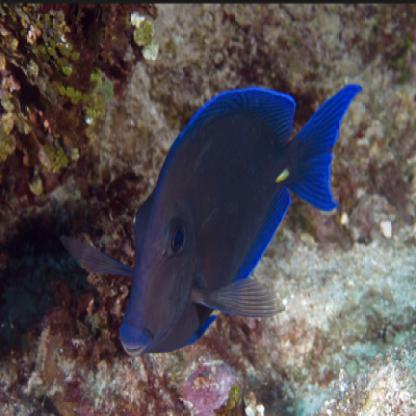Acanthuridae -Surgeonfishes-: (60, 82, 365, 358)
